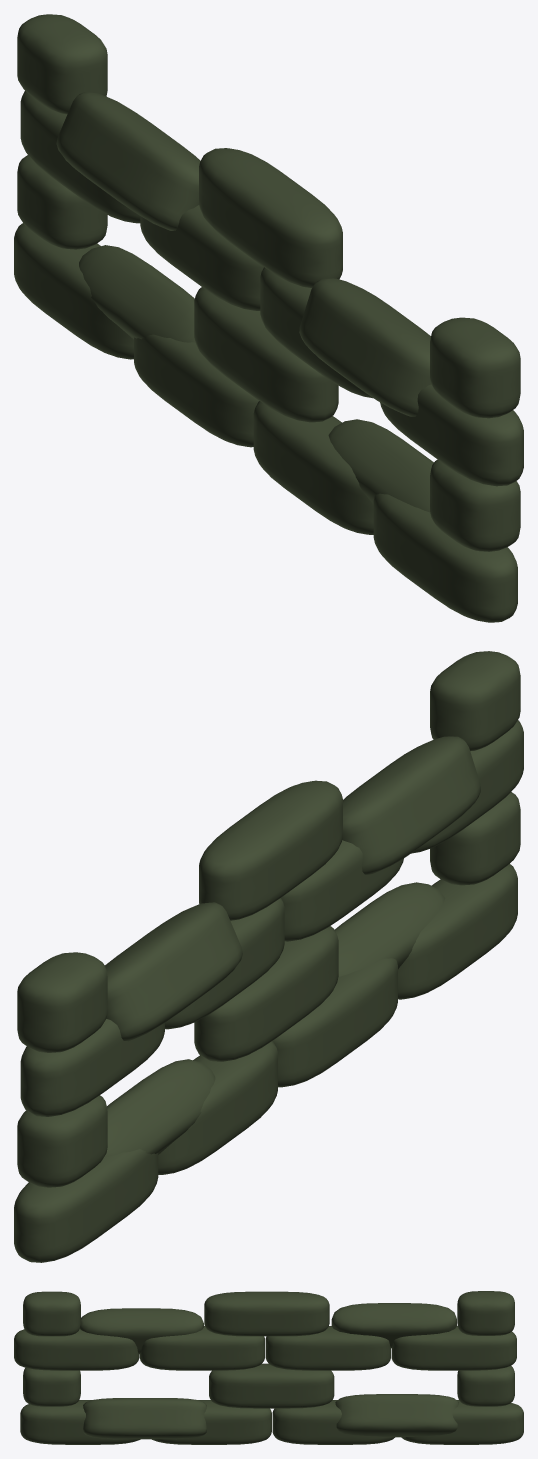
Rendered from Wall 5.fbx.
The picture shows the model from 3 angles, top to bottom: view 1: azimuth 30°, elevation 25°; view 2: azimuth 150°, elevation 25°; view 3: azimuth 270°, elevation 25°; orthographic projection. The views are drawn at different scales.
Visible parts, largest first — view 1: Cube; view 2: Cube; view 3: Cube.
Boxes of the visible parts, <box> form: Cube: <box>14,14,523,622</box>; Cube: <box>14,651,523,1262</box>; Cube: <box>14,1291,523,1444</box>.
Bounding box in the file's own units: 144 × 371 × 1169.
